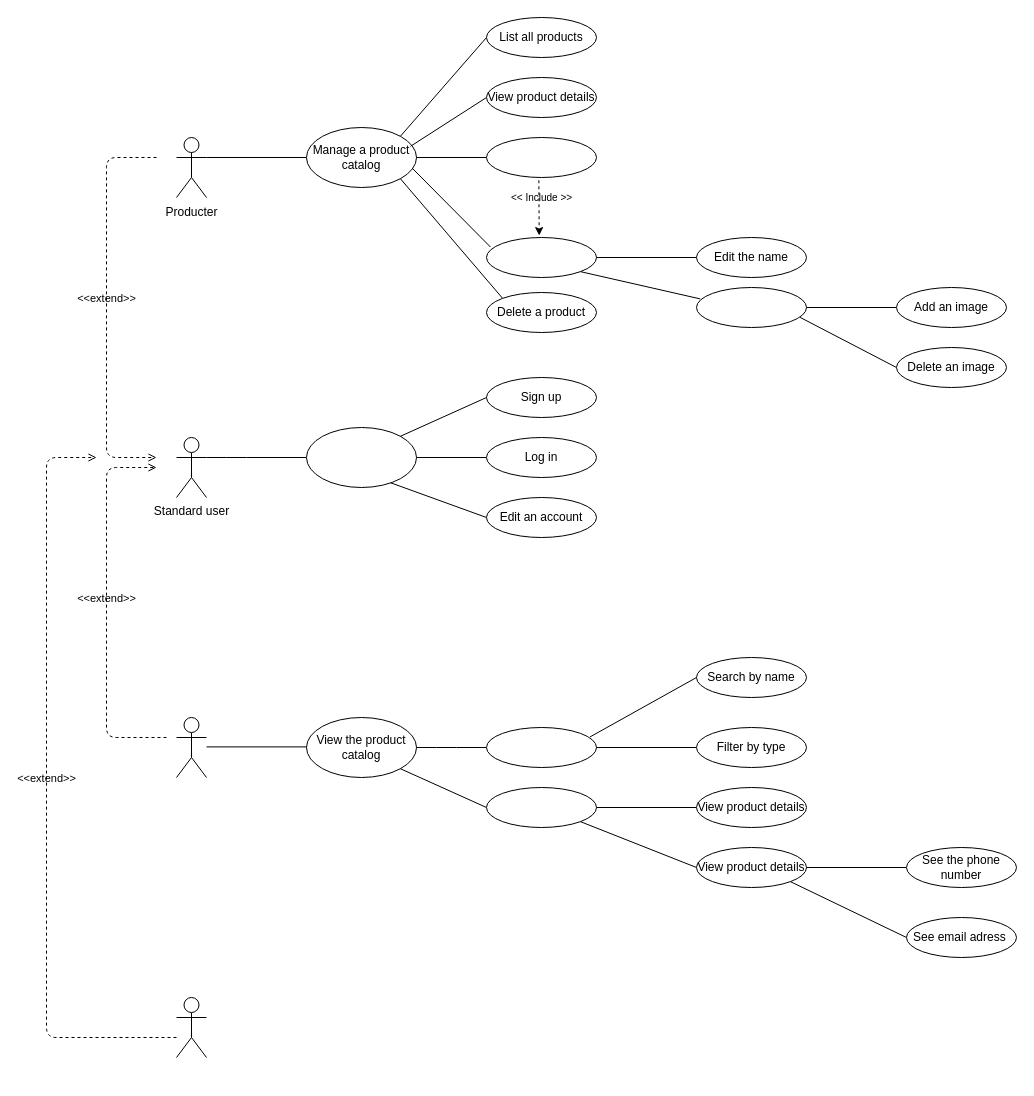
The diagram is 1034 pixels wide and 1096 high, and some of its shapes have lost their labels. Here are the shapes that lost their labels. From the top down, the box of each, then its label:
(486, 136, 596, 178): Create a product
(486, 236, 596, 278): Edit a product
(696, 286, 806, 328): Manage images
(306, 426, 416, 488): Manage an account
(176, 716, 206, 778): Collectivity
(486, 726, 596, 768): List the products
(486, 786, 596, 828): Select a product
(176, 996, 206, 1058): admin
